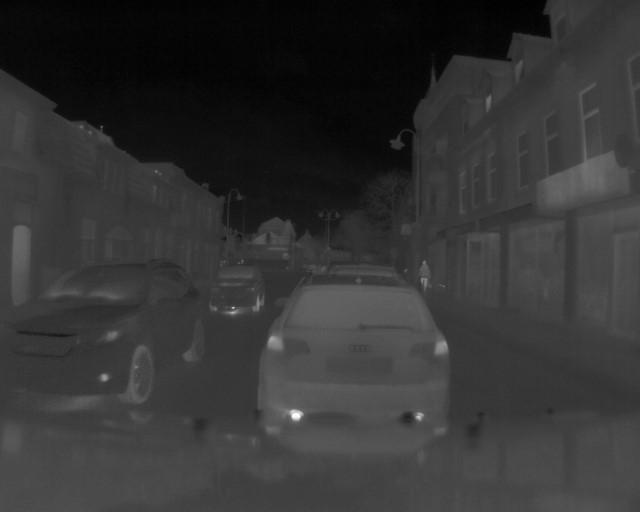car: (1, 253, 207, 408), (252, 276, 454, 429), (206, 261, 271, 316)
person: (414, 257, 432, 293)
